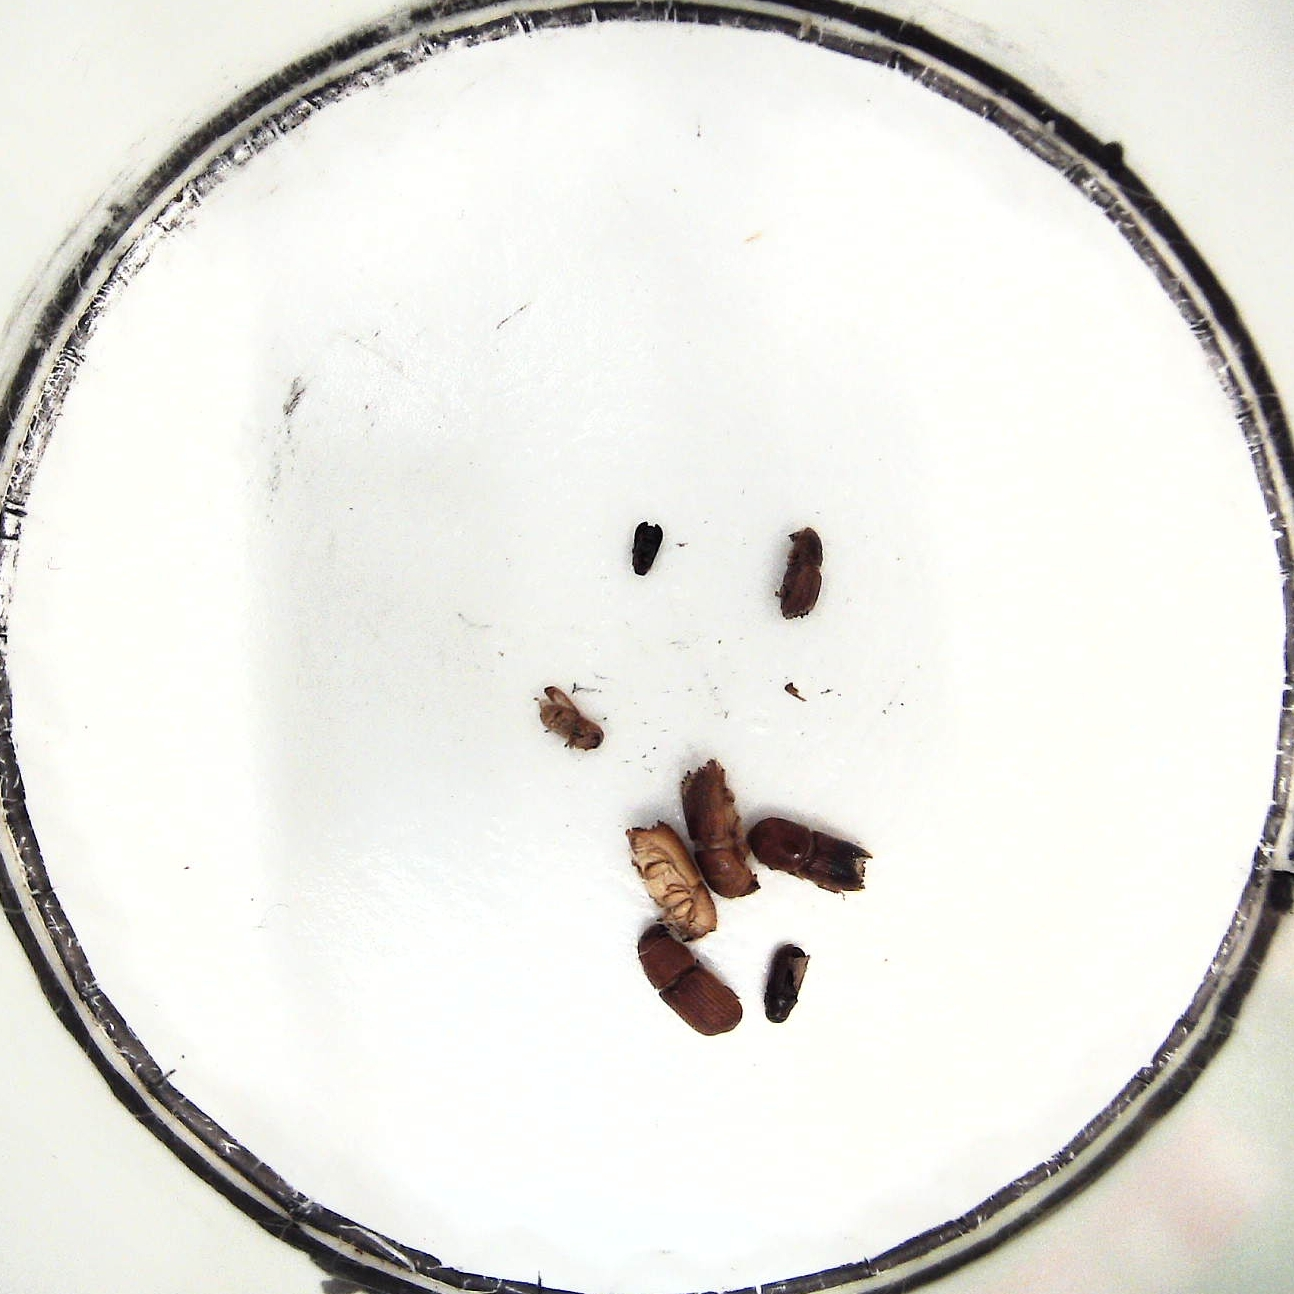Boerner: (627, 820, 720, 939), (681, 760, 760, 898), (750, 811, 875, 891)
Leconte: (638, 924, 745, 1039)
Linnaeus: (775, 523, 826, 623)
acuminatus: (538, 686, 607, 749)
armandi: (762, 942, 813, 1024)
coleoptera: (630, 518, 665, 577)
